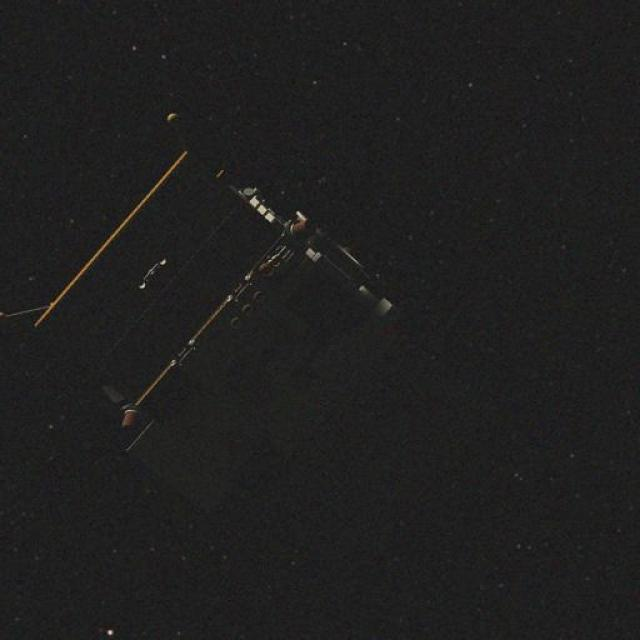proba_2: (44, 126, 295, 524)
